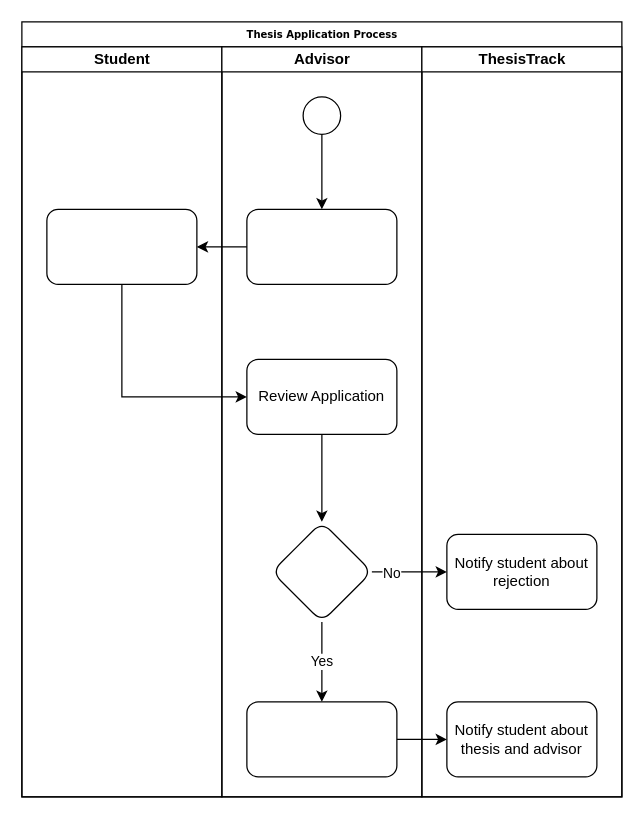
Some shapes in this 644 by 819 pixel diagram are drawn without their labels. Here are the shapes that lost their labels. From the top down, the centre of each, then its label:
the point at 121,246: Apply for Topic
the point at 321,246: Create Topic
the point at 321,571: Accepted
the point at 321,739: Assign Advisor, Supervisor
